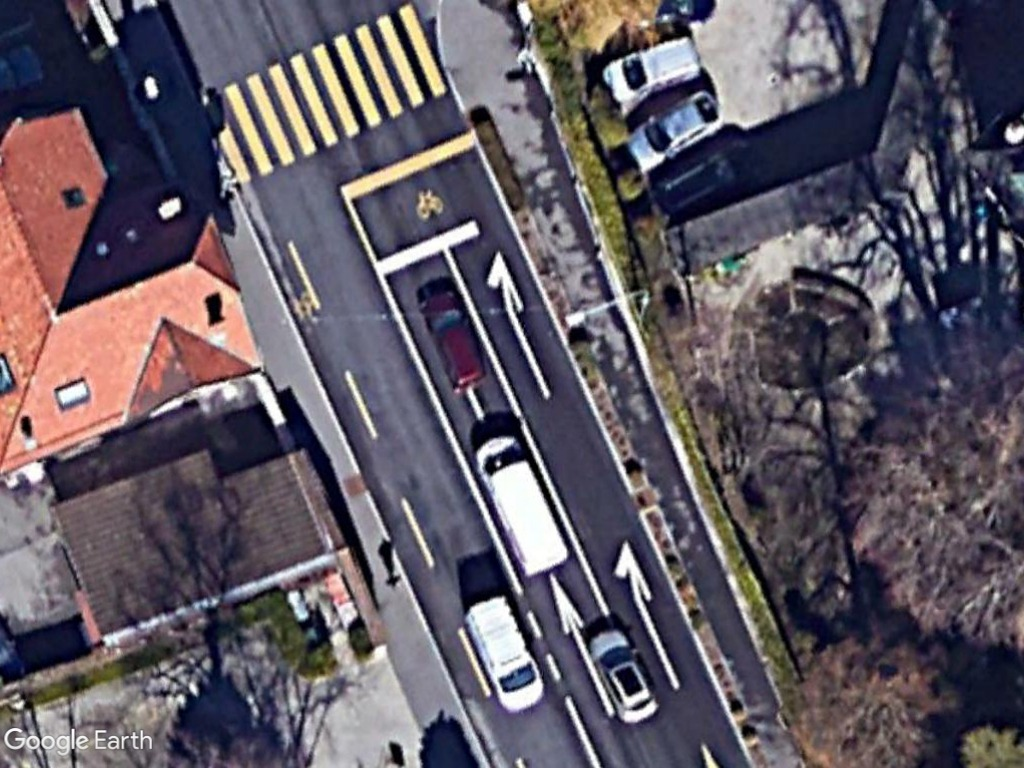car: (413, 288, 490, 394), (626, 91, 726, 172), (583, 626, 662, 728), (600, 35, 707, 105)
van: (473, 431, 572, 582), (464, 592, 547, 717)
